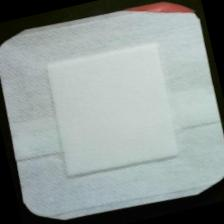Dressing: (1, 1, 224, 224)
Red_T: (120, 1, 202, 36)
